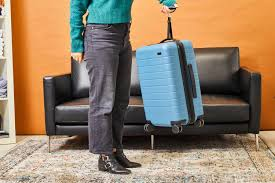suitcase: (136, 38, 207, 139)
